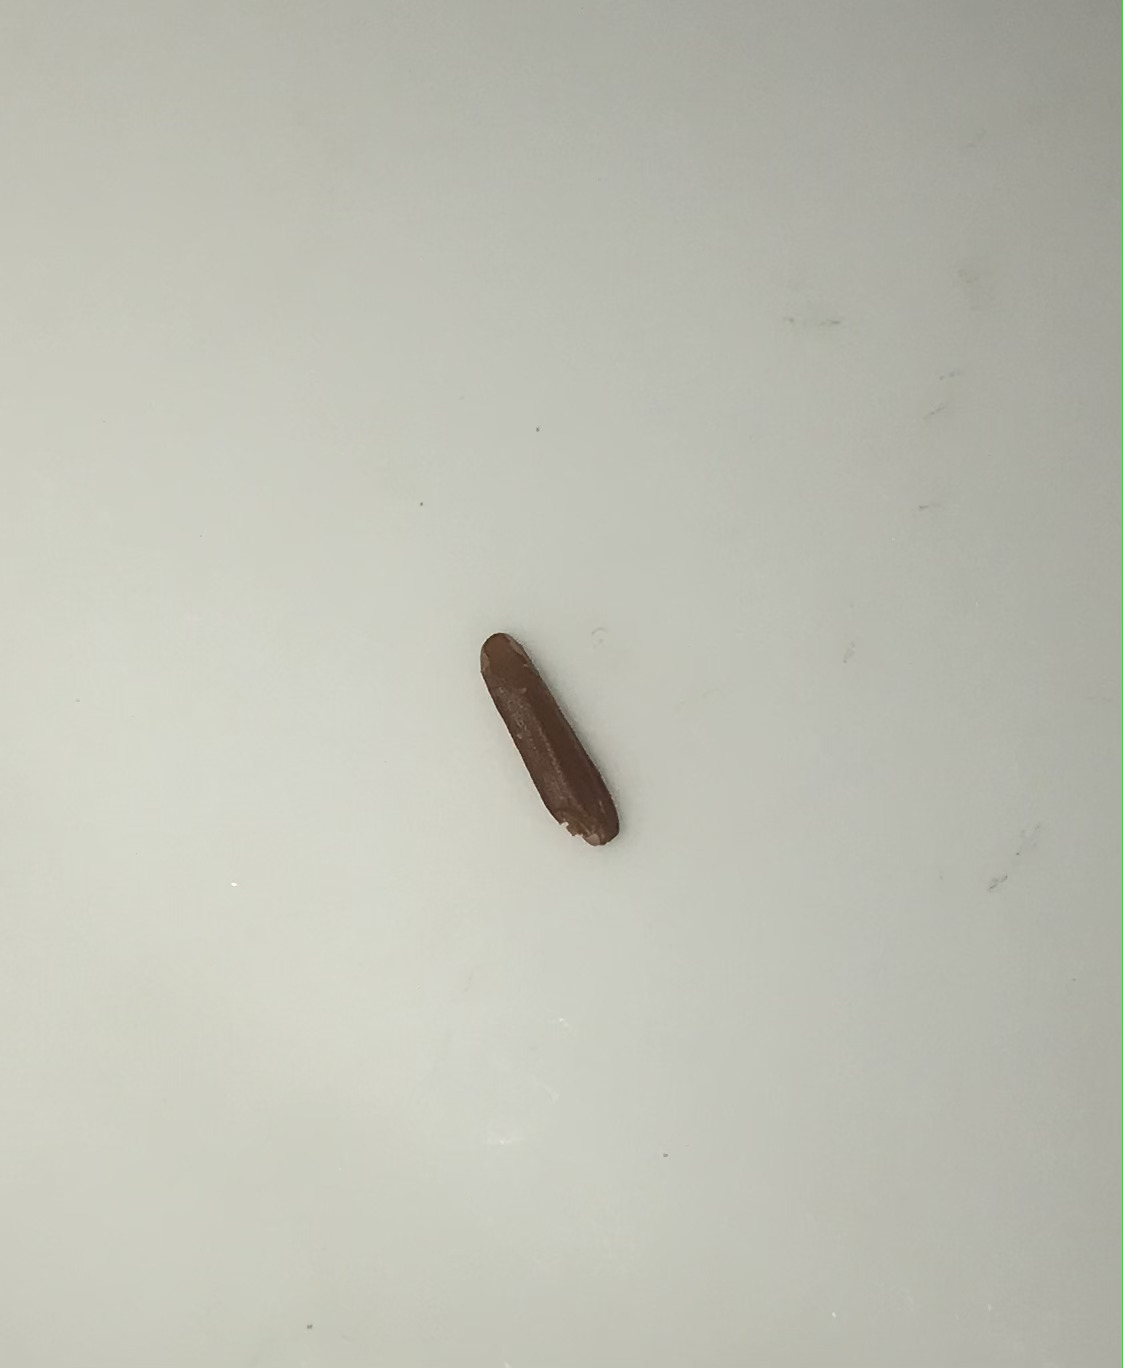Gao Huyet Rong: (474, 625, 629, 859)
